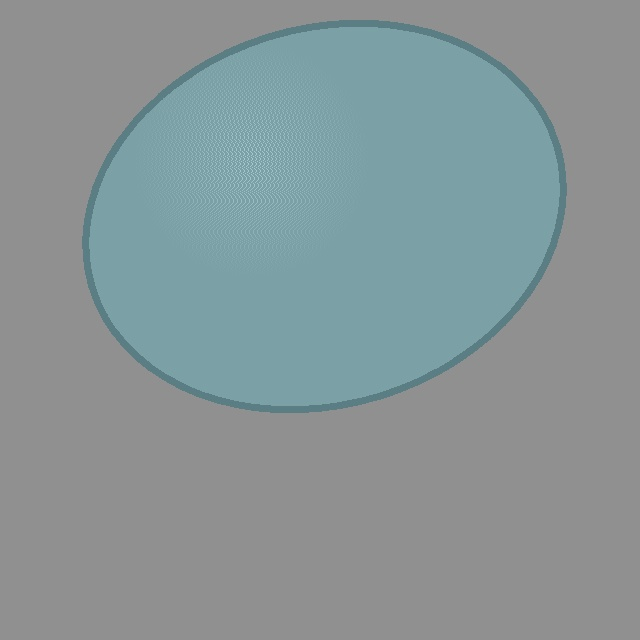lens: (85, 24, 563, 408)
